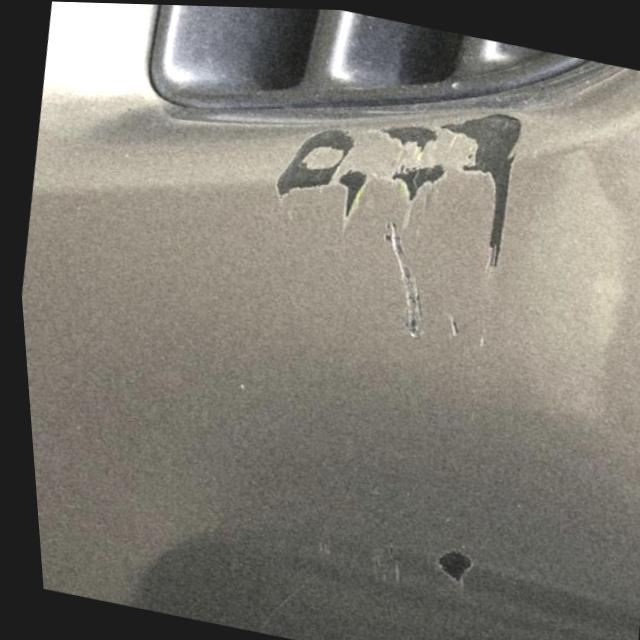Scratch: (273, 103, 521, 273), (384, 214, 426, 335), (429, 544, 474, 585)
